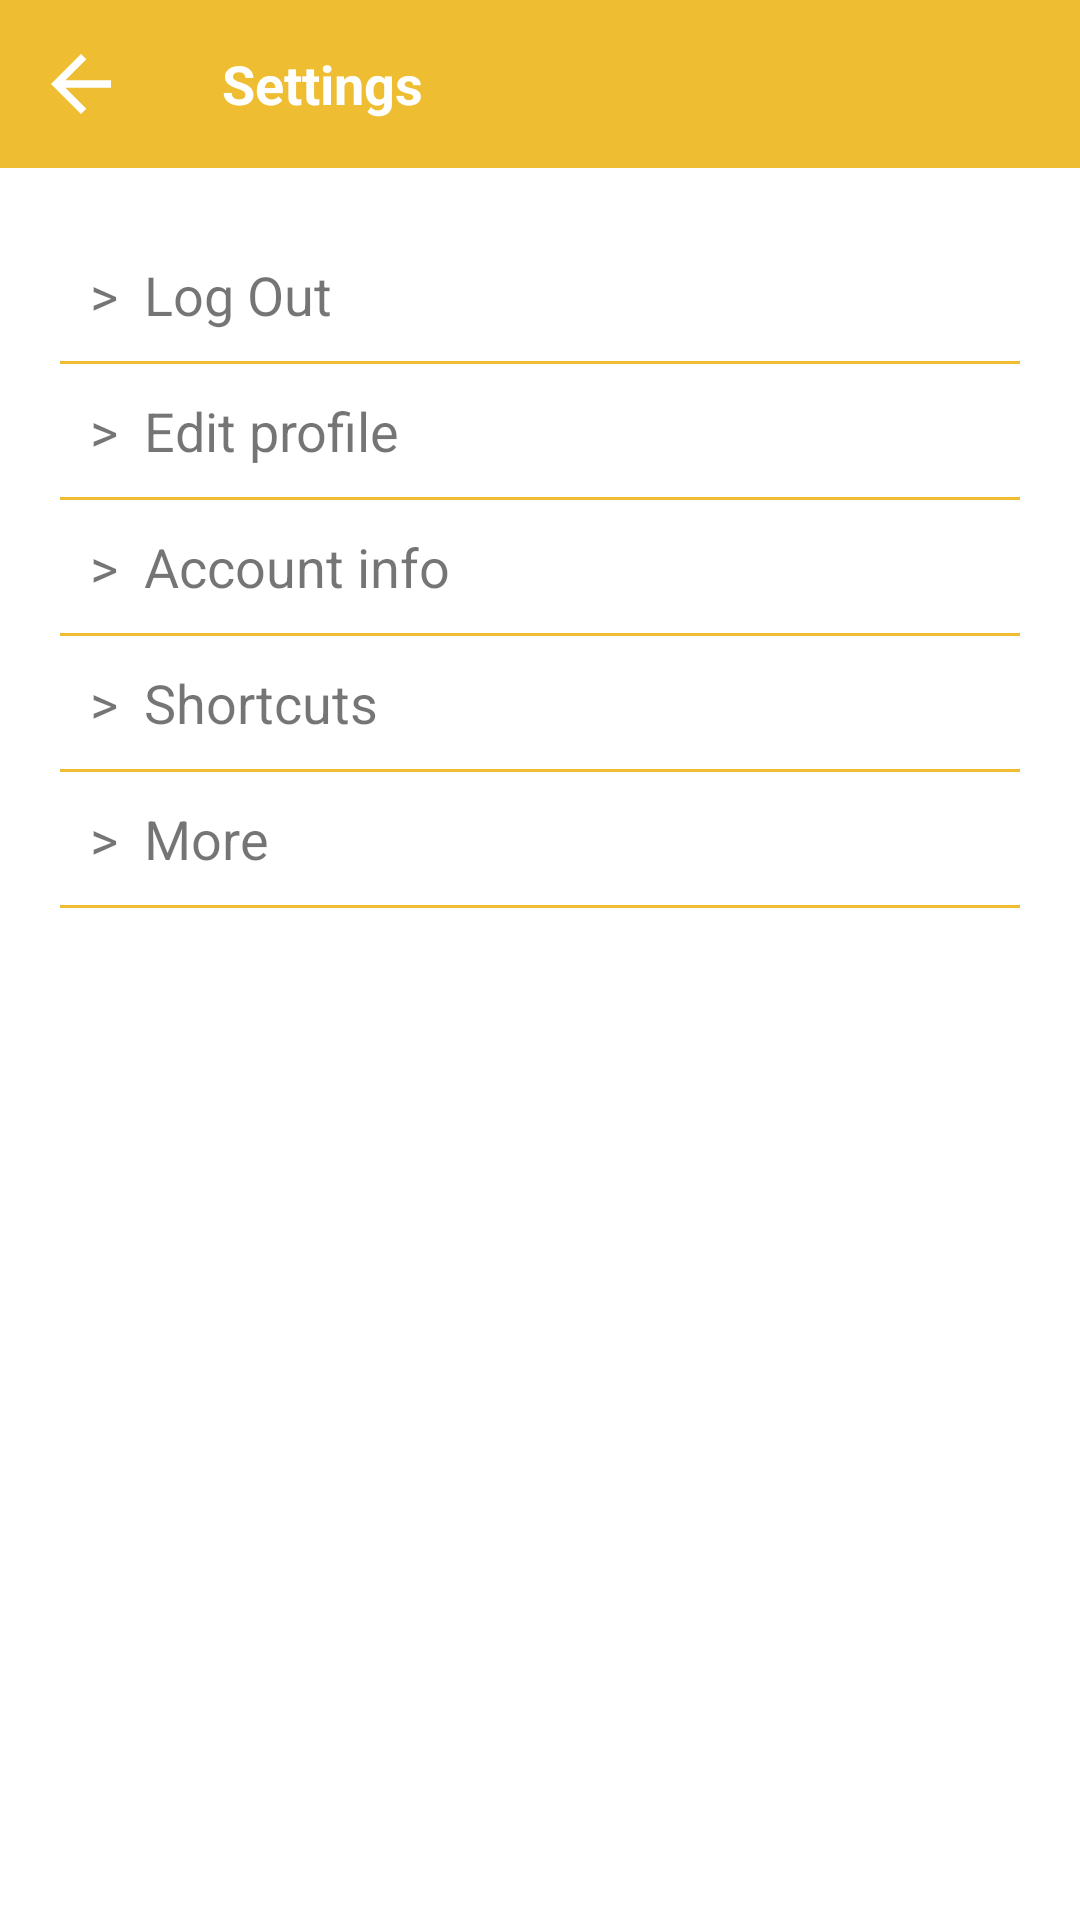

Icon bounding boxes for this 1080px×1920px phone screenshot, format Rect(x1, y1, x2, y2):
arrow back: Rect(51, 54, 111, 114)
